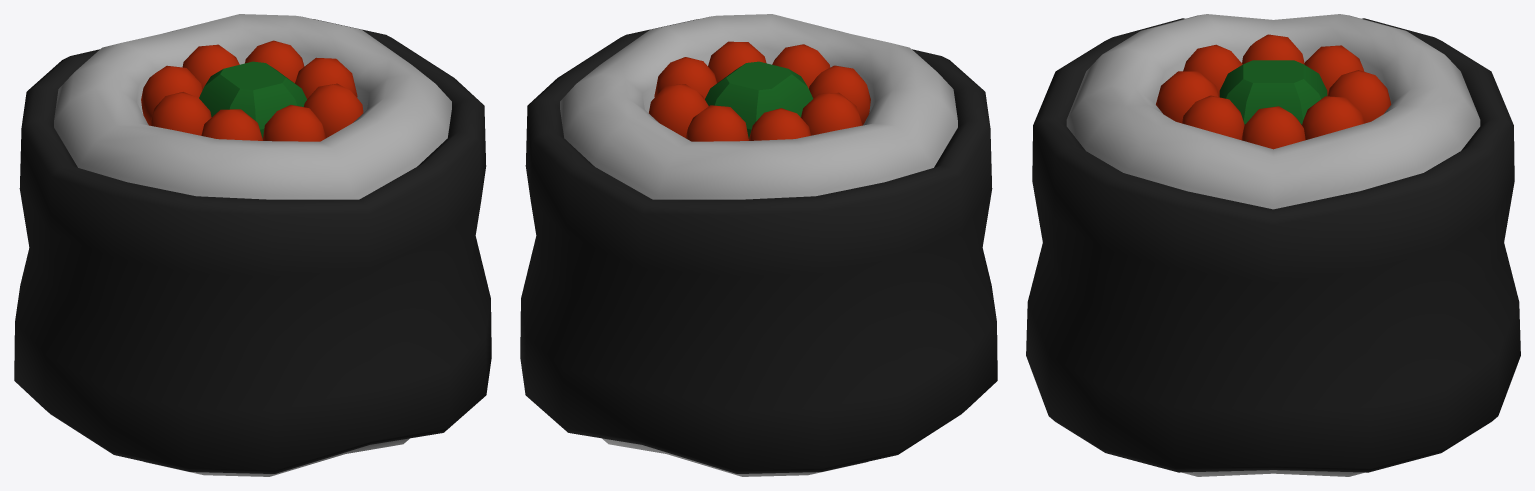
File: Sushi_3.FBX
3 renders of one model, left to right at view 1: azimuth 30°, elevation 25°; view 2: azimuth 150°, elevation 25°; view 3: azimuth 270°, elevation 25°, orthographic. The views are drawn at different scales.
Parts seen in each view (by area): view 1: Sushi_3; view 2: Sushi_3; view 3: Sushi_3.
Boxes of the visible parts, x1,y1,x2,y2 form: Sushi_3: [14, 14, 491, 476]; Sushi_3: [520, 14, 997, 476]; Sushi_3: [1026, 14, 1520, 476].
Bounding box in the file's own units: 1053 × 1055 × 832.
